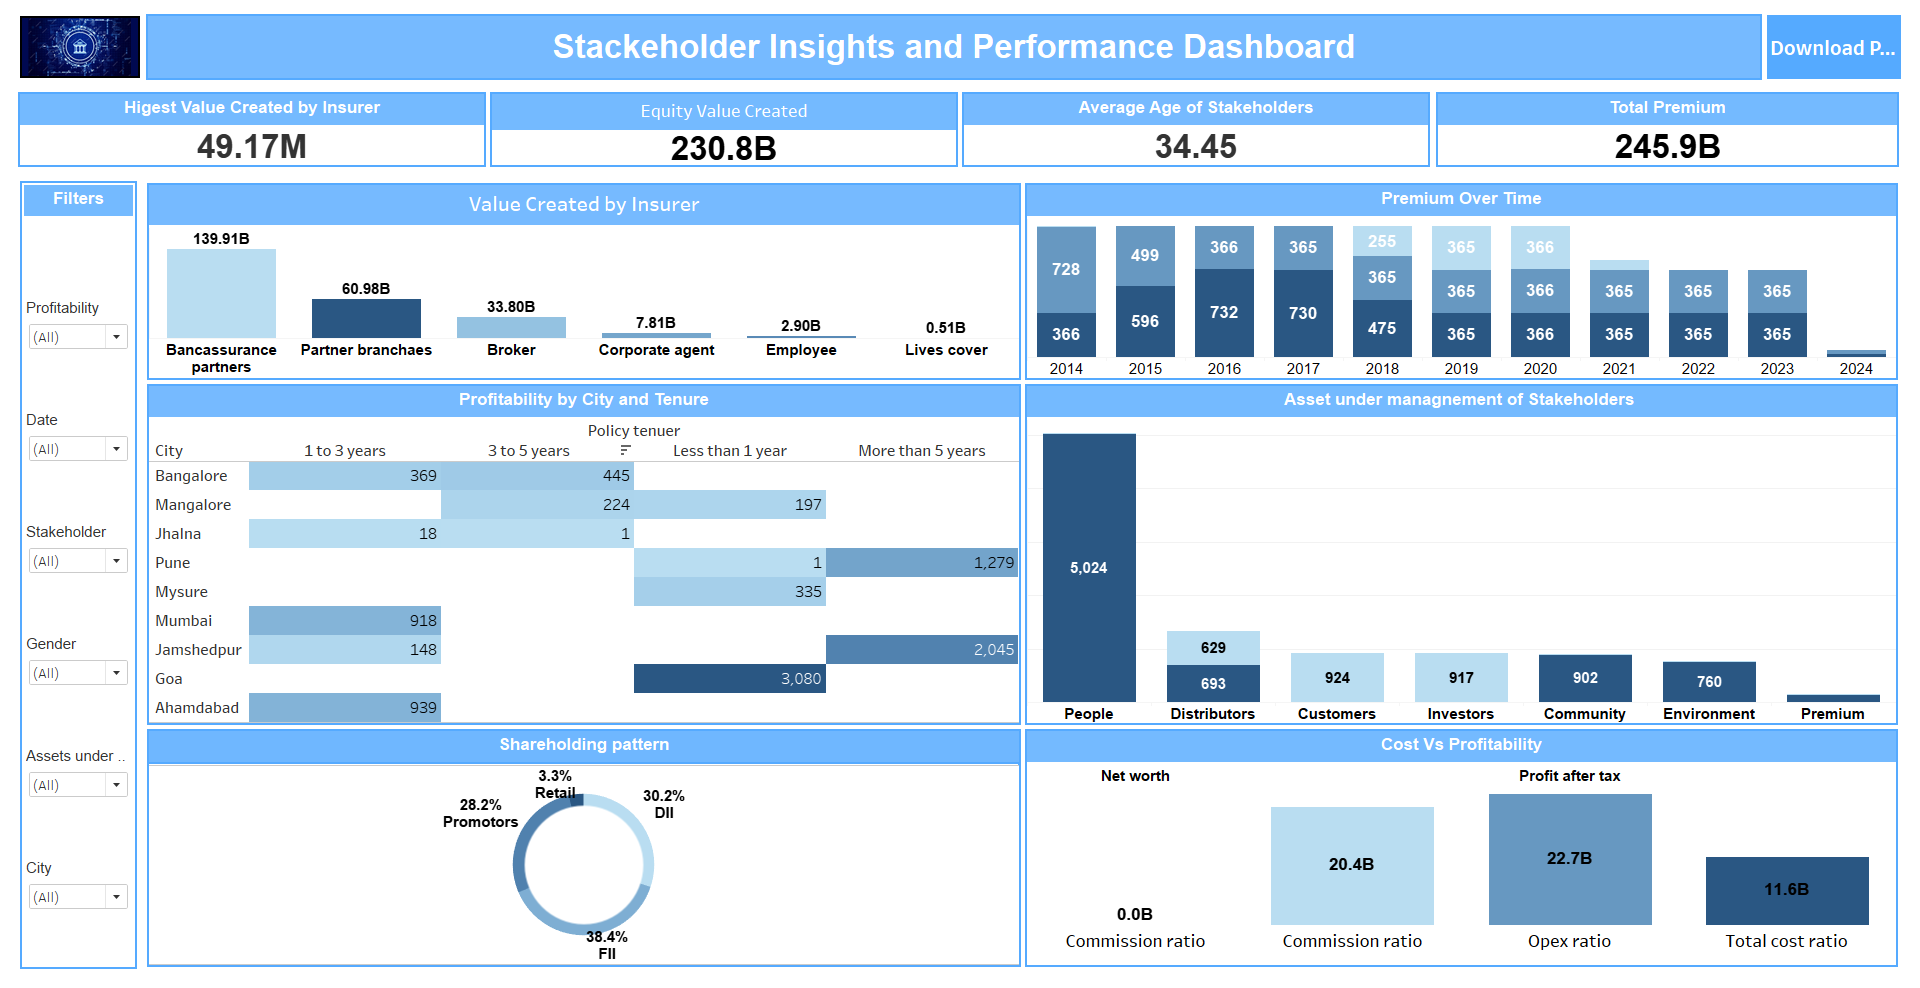

Layout of this report page (visuals, bound fields, positions):
{"tool":"tableau","page":{"name":"Dashboard 1","canvas":[1000,1000],"units":"permille","ordinal":0},"visuals":[{"type":"image","param":"C:/Users/User/Downloads/virtual-bank-digital-technology-concept-financial-transa","box":[9.7,20.1,77.3,87.7]},{"type":"text","box":[87,20.1,818.7,87.7]},{"type":"dashboard-object","box":[905.7,20.1,84.6,87.7]},{"type":"worksheet","title":"Higest Value Created by Insurer","mark":"Automatic","box":[9.7,117.8,245.3,99]},{"type":"worksheet","title":"Equity Value Created","mark":"Automatic","box":[255,117.8,245.3,99]},{"type":"worksheet","title":"Average Age of Stakeholders","mark":"Automatic","box":[500.3,117.8,245.3,99]},{"type":"worksheet","title":"Total Premium","mark":"Automatic","box":[745.6,117.8,244.7,99]},{"type":"worksheet","title":"Value Created by Insurer","mark":"Automatic","rows":["Value Created"],"cols":["Insurer"],"box":[87.6,231.8,450.2,251.9]},{"type":"worksheet","title":"Premium Over Time","mark":"Bar","rows":["Premium 1"],"cols":["Date"],"box":[537.8,231.8,450.2,251.9]},{"type":"worksheet","title":"Filters","mark":"Automatic","box":[13.3,234.3,68.3,106.5]},{"type":"filter","title":"Filters","param":"[federated.0zky6941cqqwi11av5fxk0qpxqo8].[none:Profitability:nk]","box":[13.3,340.9,68.3,105.3]},{"type":"filter","title":"Filters","param":"[federated.0zky6941cqqwi11av5fxk0qpxqo8].[my:Date:ok]","box":[13.3,446.1,68.3,105.3]},{"type":"worksheet","title":"Profitability by City and Tenure","mark":"Square","rows":["City"],"cols":["Policy tenuer"],"box":[87.6,483.7,450.2,260.6]},{"type":"worksheet","title":"Asset under managnement of Stakeholders ","mark":"Automatic","rows":["Stakeholder"],"cols":["Stakeholder"],"box":[537.8,483.7,450.2,260.6]},{"type":"filter","title":"Filters","param":"[federated.0zky6941cqqwi11av5fxk0qpxqo8].[none:Stakeholder:nk]","box":[13.3,551.4,68.3,105.3]},{"type":"filter","title":"Filters","param":"[federated.0zky6941cqqwi11av5fxk0qpxqo8].[none:Gender:nk]","box":[13.3,656.6,68.3,105.3]},{"type":"worksheet","title":"Shareholding pattern","mark":"Automatic","rows":["Calculation_641481477264990208","Calculation_641481477264990208"],"box":[87.6,744.4,450.2,230.6]},{"type":"worksheet","title":"Cost Vs Profitability","mark":"Automatic","rows":["Value Created"],"cols":["Profitability","Cost ratio"],"box":[537.8,744.4,450.2,230.6]},{"type":"filter","title":"Filters","param":"[federated.0zky6941cqqwi11av5fxk0qpxqo8].[none:Assets under management:nk]","box":[13.3,761.9,68.3,105.3]},{"type":"filter","title":"Filters","param":"[federated.0zky6941cqqwi11av5fxk0qpxqo8].[none:City:nk]","box":[13.3,867.2,68.3,105.3]}]}

Visuals, with their boxes on the dashboard's canvas, which has no fixed pixel size, in thousandths of its width and height (x1, y1, x2, y2). These are canvas units, not pixel positions in the 1920x988 screenshot, which may show the page scaled, cropped or inside an application window:
image: [left=10, top=20, right=87, bottom=108]
text: [left=87, top=20, right=906, bottom=108]
dashboard-object: [left=906, top=20, right=990, bottom=108]
"Higest Value Created by Insurer" worksheet: [left=10, top=118, right=255, bottom=217]
"Equity Value Created" worksheet: [left=255, top=118, right=500, bottom=217]
"Average Age of Stakeholders" worksheet: [left=500, top=118, right=746, bottom=217]
"Total Premium" worksheet: [left=746, top=118, right=990, bottom=217]
"Value Created by Insurer" worksheet: [left=88, top=232, right=538, bottom=484]
"Premium Over Time" worksheet (Bar marks): [left=538, top=232, right=988, bottom=484]
"Filters" worksheet: [left=13, top=234, right=82, bottom=341]
"Filters" filter: [left=13, top=341, right=82, bottom=446]
"Filters" filter: [left=13, top=446, right=82, bottom=551]
"Profitability by City and Tenure" worksheet (Square marks): [left=88, top=484, right=538, bottom=744]
"Asset under managnement of Stakeholders " worksheet: [left=538, top=484, right=988, bottom=744]
"Filters" filter: [left=13, top=551, right=82, bottom=657]
"Filters" filter: [left=13, top=657, right=82, bottom=762]
"Shareholding pattern" worksheet: [left=88, top=744, right=538, bottom=975]
"Cost Vs Profitability" worksheet: [left=538, top=744, right=988, bottom=975]
"Filters" filter: [left=13, top=762, right=82, bottom=867]
"Filters" filter: [left=13, top=867, right=82, bottom=972]
